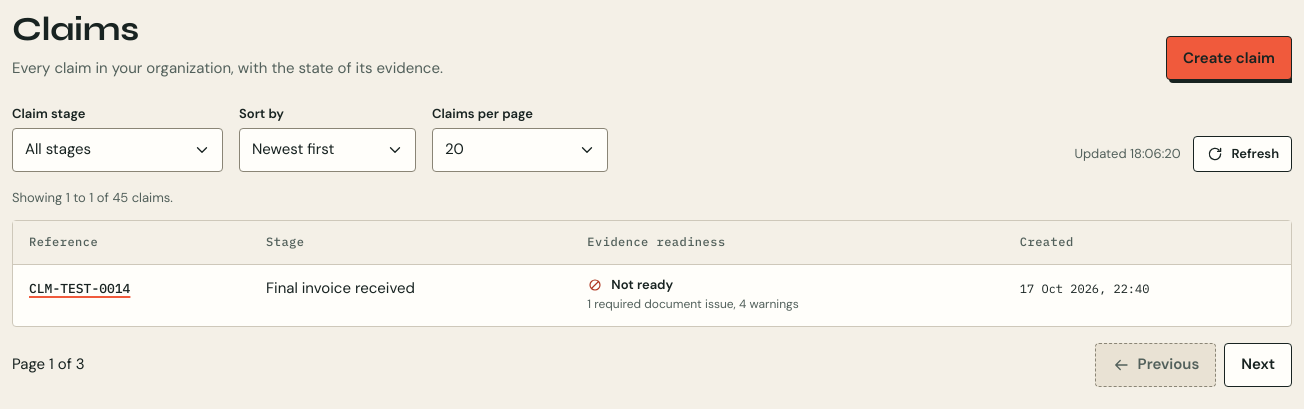
Test: ClaimsListPage: filters, sort and paging live in the address › pages forwards and back, and disables the buttons at either end
Check: the text "Page 1 of 3" is shown, box [12,353,85,376]
Check: the button "Previous" is disabled, box [1095,343,1216,387]
Click the button "Next".
click(1258, 365)  # box [1224,343,1292,387]
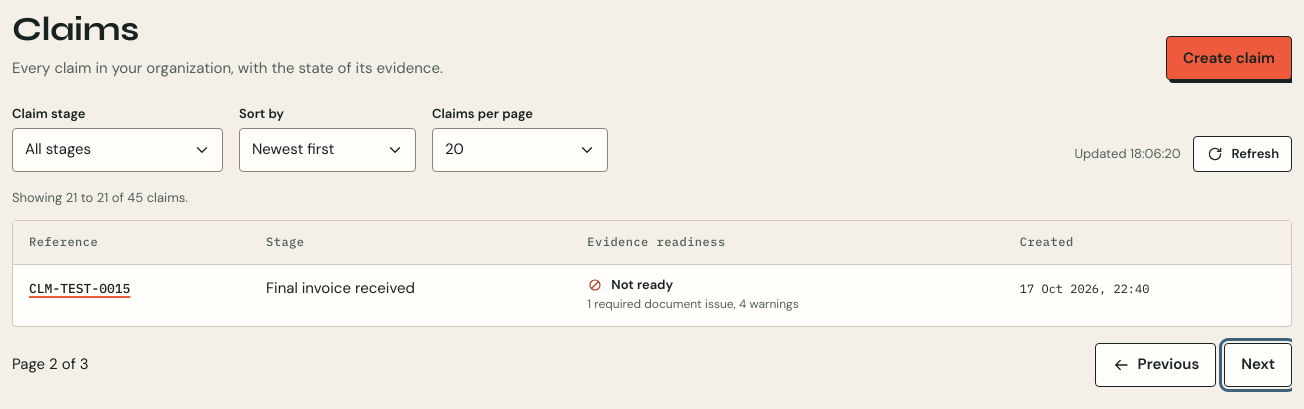
Check: the text "Page 2 of 3" is shown, box [12,353,89,376]
Click the button "Next".
click(1258, 365)  # box [1224,343,1292,387]
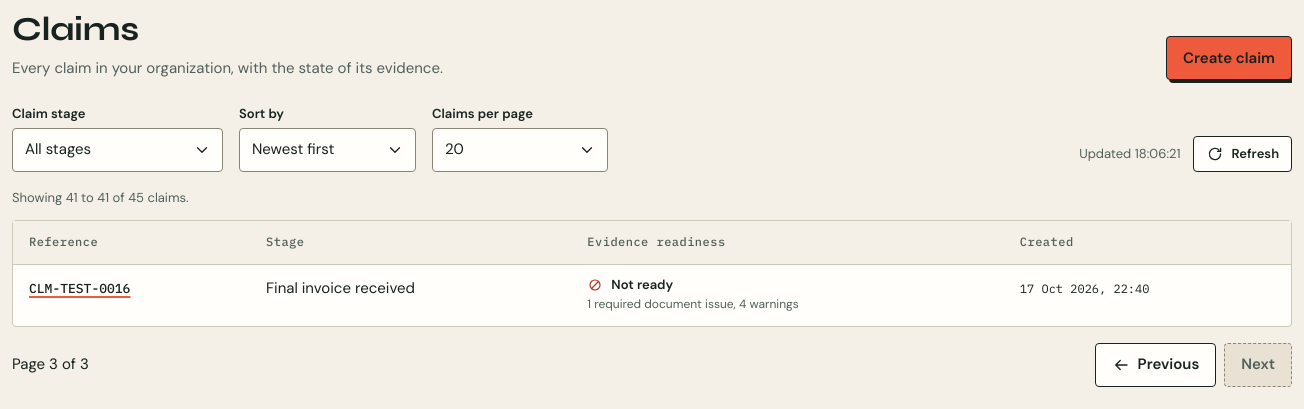
Check: the text "Page 3 of 3" is shown, box [12,353,89,376]
Check: the button "Next" is disabled, box [1224,343,1292,387]
Click the button "Previous".
click(1155, 365)  # box [1095,343,1216,387]
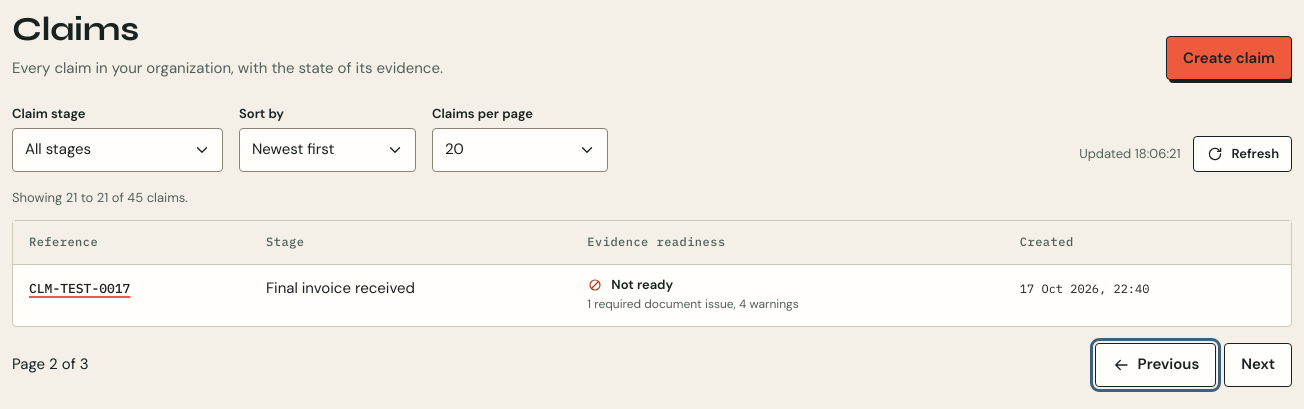
Check: the text "Page 2 of 3" is shown, box [12,353,89,376]
